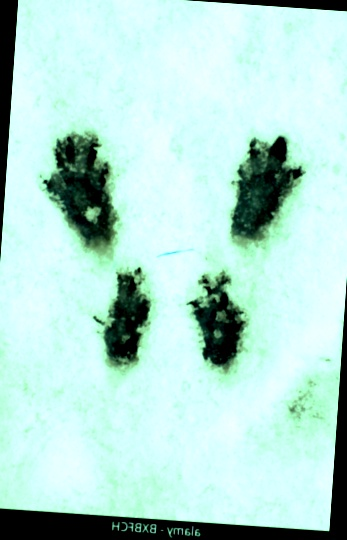ecureuil: (30, 114, 140, 274), (215, 117, 315, 268), (84, 259, 165, 381), (179, 261, 255, 380)
